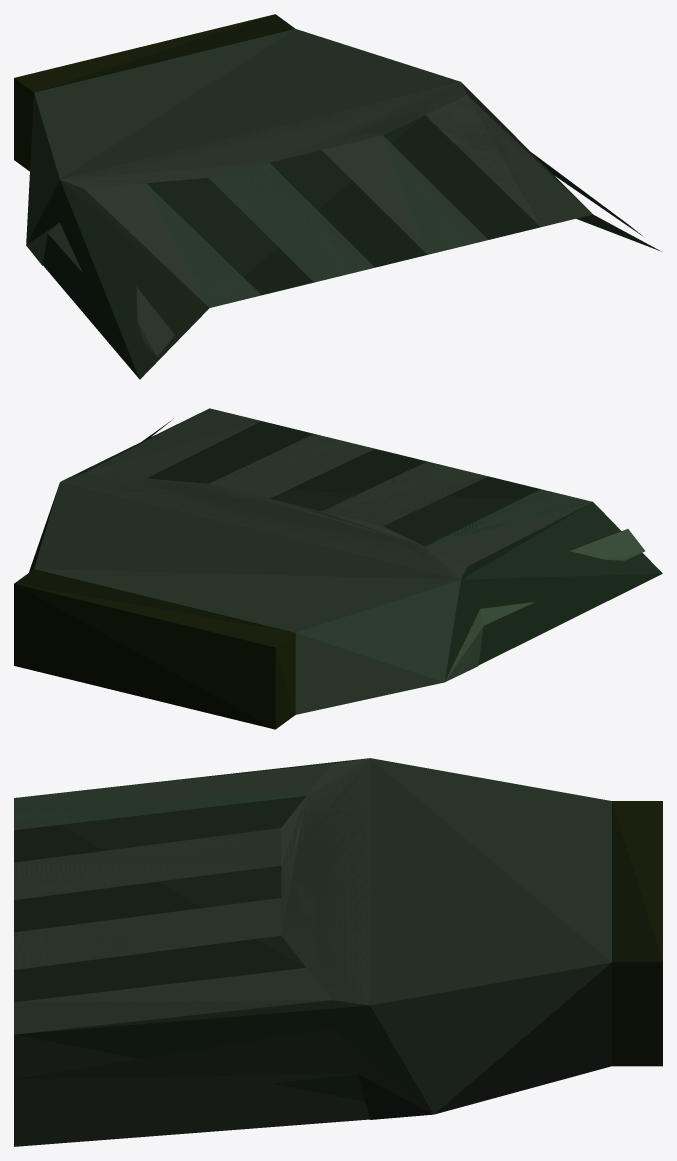
Rendered from adamant-plateskirt.obj.
3 renders of one model, top to bottom at view 1: azimuth 30°, elevation 25°; view 2: azimuth 150°, elevation 25°; view 3: azimuth 270°, elevation 25°, orthographic. The views are drawn at different scales.
Parts seen in each view (by area): view 1: Item Adamant plateskirt 2026-09-24_18-15-35; view 2: Item Adamant plateskirt 2026-09-24_18-15-35; view 3: Item Adamant plateskirt 2026-09-24_18-15-35.
Part boxes in pixels (box(x1,y1,x2,y2)): Item Adamant plateskirt 2026-09-24_18-15-35: box(14, 14, 661, 379); Item Adamant plateskirt 2026-09-24_18-15-35: box(14, 408, 662, 729); Item Adamant plateskirt 2026-09-24_18-15-35: box(14, 758, 662, 1146).
Bounding box in the file's own units: 60 × 9 × 51.
